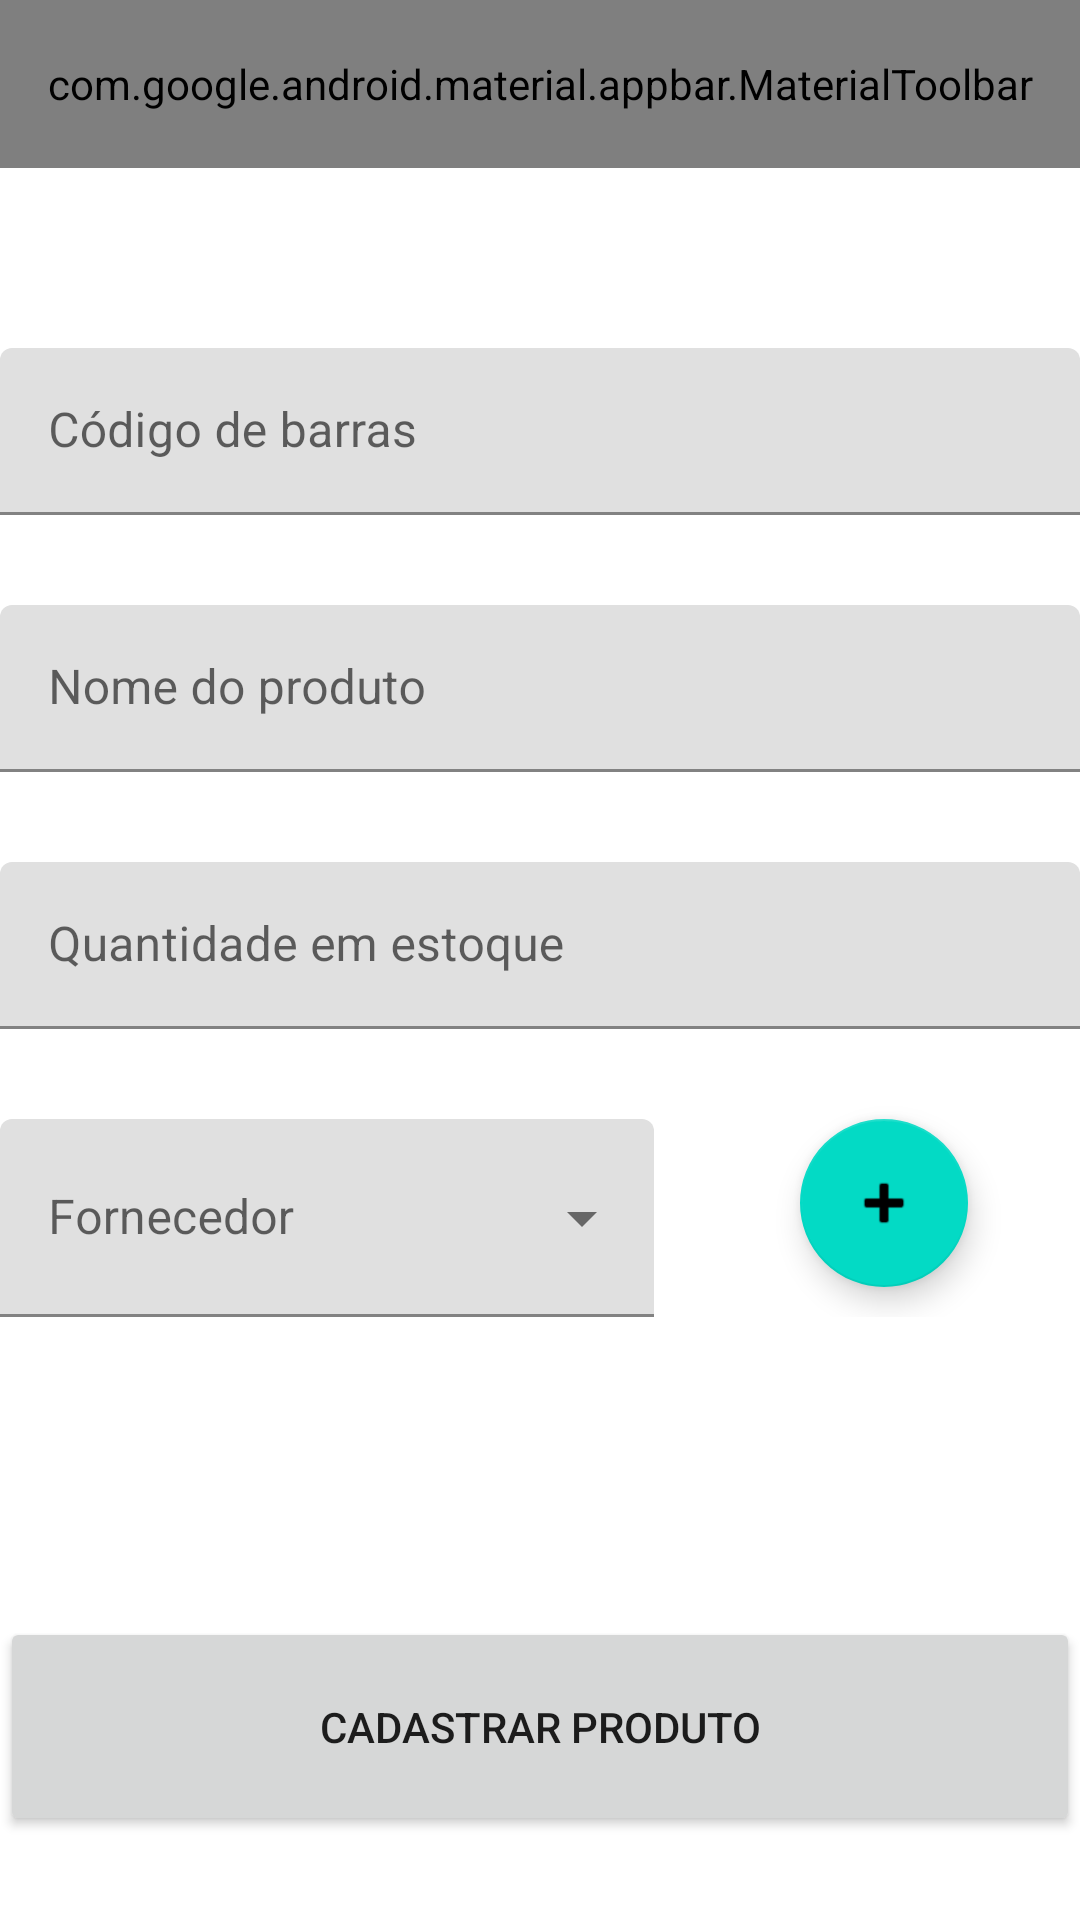

Where to tap for icons on this 1080×1920 app screen, as (x,y):
add: (884,1203)
